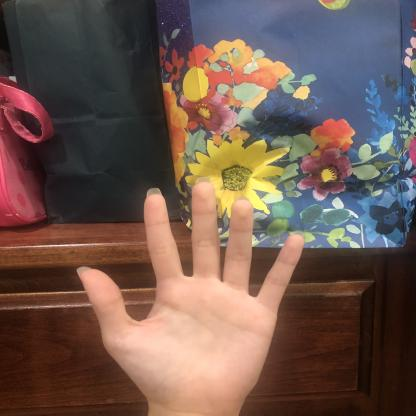palm: (72, 175, 310, 409)
